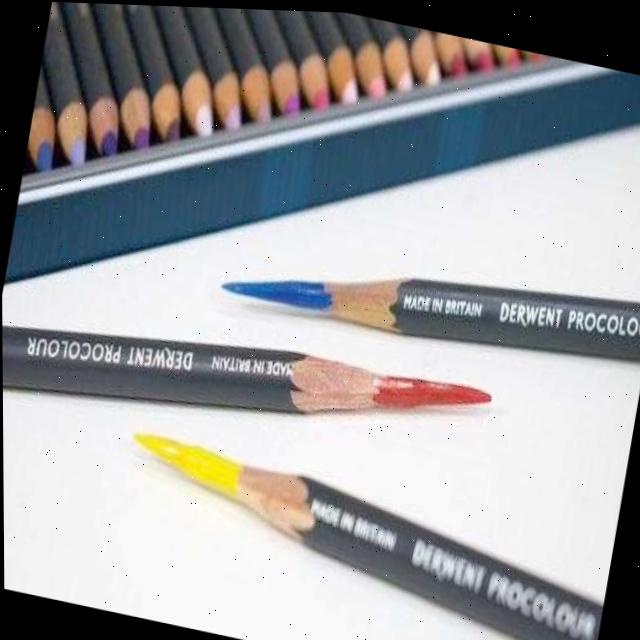pencil: (14, 1, 640, 223), (102, 412, 605, 640), (181, 229, 640, 383), (2, 308, 520, 432)
